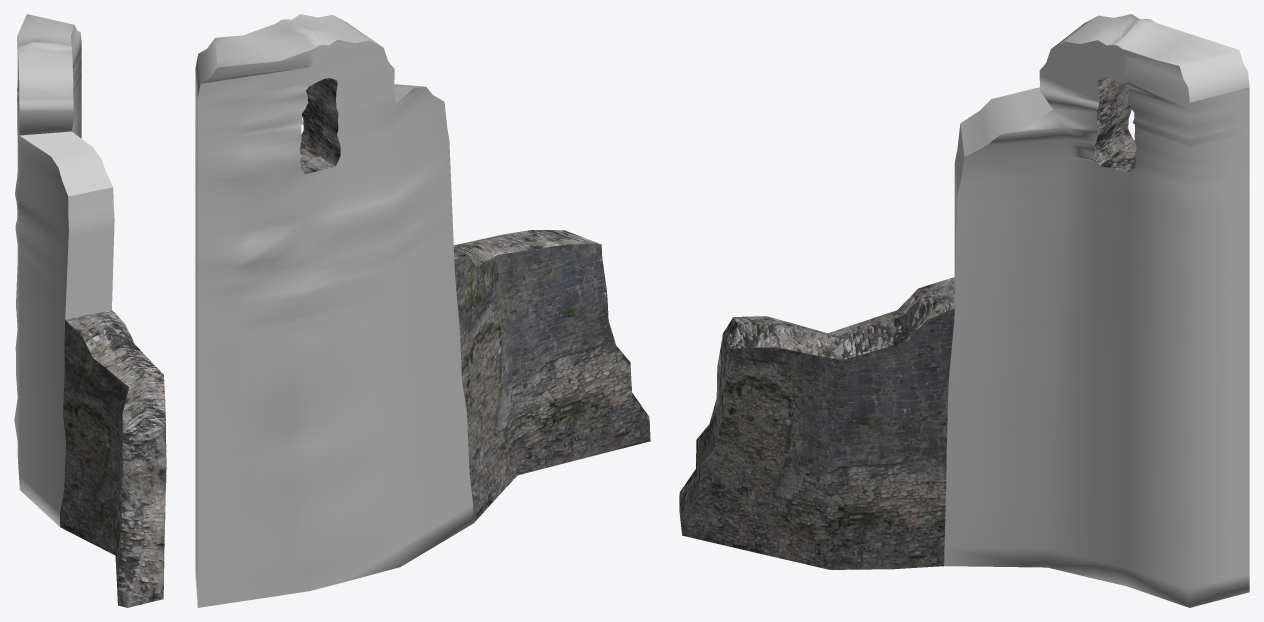
The model's file is castleruins piece one.fbx.
The picture shows the model from 3 angles, left to right: view 1: azimuth 30°, elevation 25°; view 2: azimuth 150°, elevation 25°; view 3: azimuth 270°, elevation 25°; orthographic projection. The views are drawn at different scales.
Parts seen in each view (by area): view 1: castleruins_one; view 2: castleruins_one; view 3: castleruins_one.
Part boxes in pixels (x1,y1,x2,y2): castleruins_one: [14, 14, 166, 607]; castleruins_one: [195, 14, 650, 607]; castleruins_one: [679, 14, 1249, 607].
Size of the model in its own units: 156 by 404 by 382.
